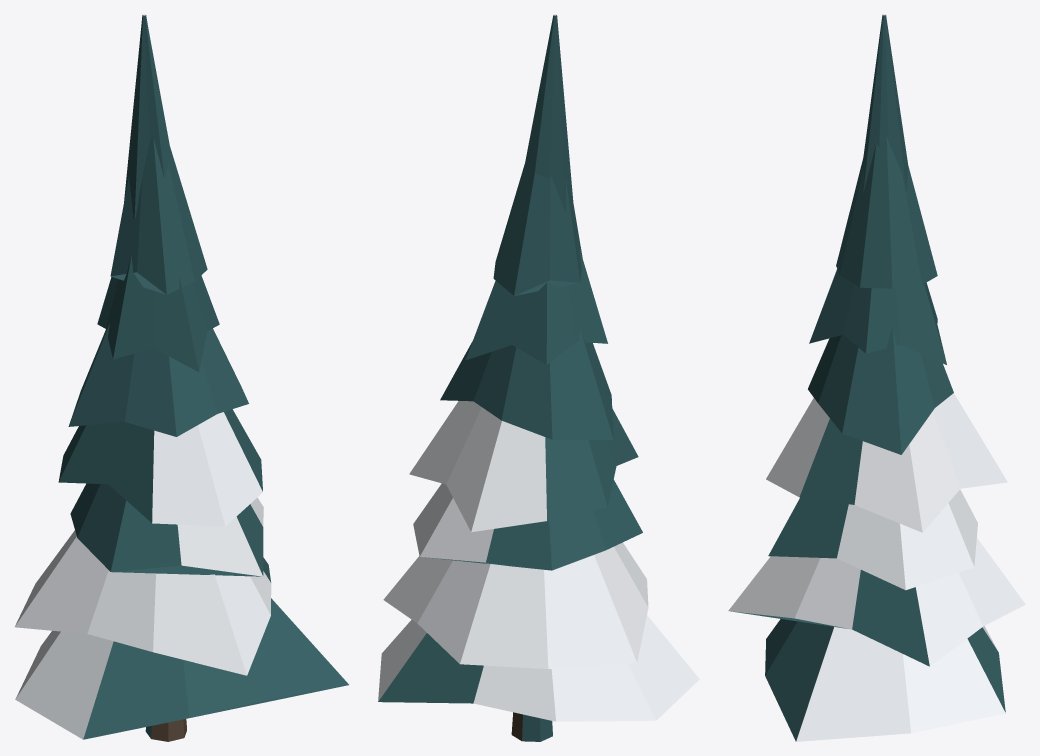
File: pine_c.glb
The picture shows the model from 3 angles, left to right: view 1: azimuth 30°, elevation 25°; view 2: azimuth 150°, elevation 25°; view 3: azimuth 270°, elevation 25°; orthographic projection. The views are drawn at different scales.
Visible parts, largest first — view 1: pine_c; view 2: pine_c; view 3: pine_c.
Part boxes in pixels (box(x1,y1,x2,y2)): pine_c: box(15, 14, 348, 741); pine_c: box(378, 14, 699, 741); pine_c: box(728, 14, 1025, 741).
Size of the model in its own units: 5.06 by 12.74 by 4.92.
